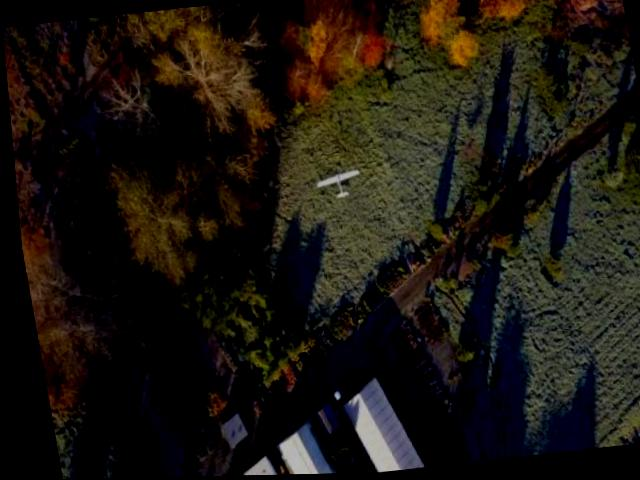uav: (306, 158, 364, 208)
